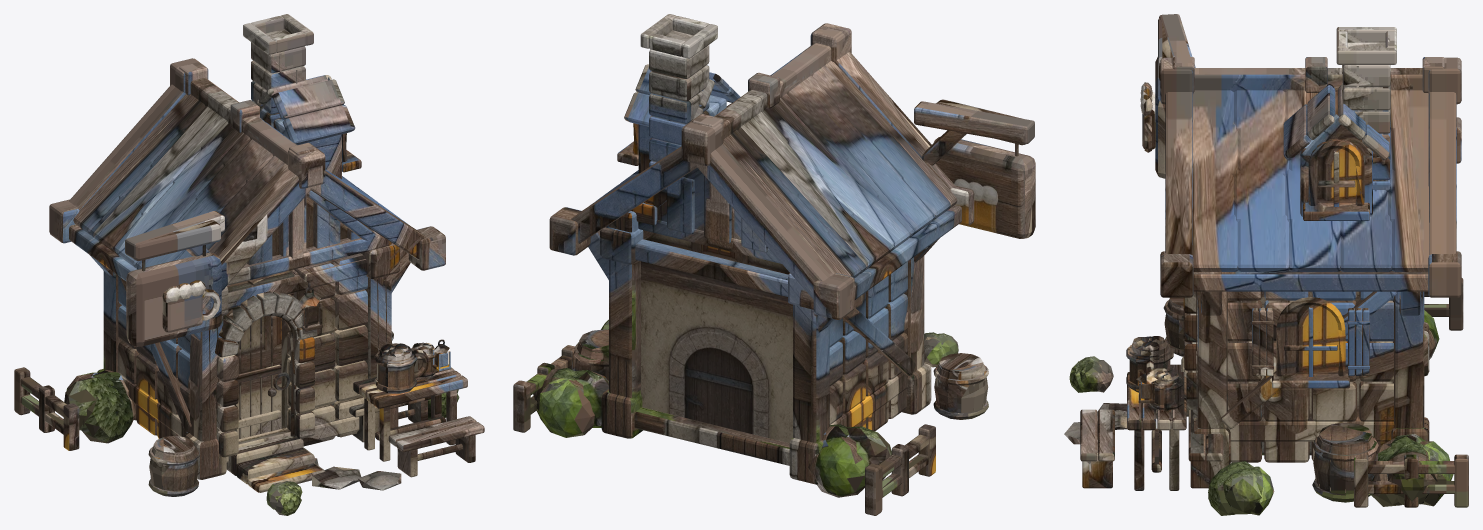
Rendered from tavern.glb.
3 views of the same model, side by side, from view 1: azimuth 30°, elevation 25°; view 2: azimuth 150°, elevation 25°; view 3: azimuth 270°, elevation 25° (orthographic). The views are drawn at different scales.
Parts seen in each view (by area): view 1: Carved hanging sign, Carved roof verge, Carved roof verge.002, Corner upright, Carved roof verge.001, Gable tie beam, Ridge timber, Leaf cluster.004, Wall cross beam.002, Corner upright.002, Soft edged blue roof tile.042, Soft edged blue roof tile.041 (+80 smaller); view 2: Cottage walls, Carved hanging sign, Carved roof verge.001, Corner upright.003, Corner upright.001, Wall cross beam.001, Carved roof verge.003, Wall cross beam.003, Tavern sign cantilever, Ridge timber, Leaf cluster.007, Leaf cluster.011 (+64 smaller); view 3: Roof eave.001, Carved roof verge.003, Carved roof verge.002, Corner upright.003, Corner upright.002, Ridge timber, Warm arched window.001, Soft edged blue roof tile.037, Soft edged blue roof tile.039, Soft edged blue roof tile.038, Soft edged blue roof tile.036, Side wall lower tie.001 (+86 smaller).
Boxes of the visible parts, bbox=[...] form: Carved hanging sign: bbox=[126, 252, 221, 346]; Carved roof verge: bbox=[213, 169, 312, 291]; Carved roof verge.002: bbox=[311, 171, 426, 259]; Corner upright: bbox=[190, 315, 223, 441]; Carved roof verge.001: bbox=[69, 84, 184, 209]; Gable tie beam: bbox=[227, 236, 390, 285]; Ridge timber: bbox=[190, 78, 297, 164]; Leaf cluster.004: bbox=[81, 386, 135, 443]; Wall cross beam.002: bbox=[228, 259, 367, 308]; Corner upright.002: bbox=[364, 231, 391, 378]; Soft edged blue roof tile.042: bbox=[282, 105, 355, 144]; Soft edged blue roof tile.041: bbox=[272, 79, 344, 119]; Cottage walls: bbox=[641, 230, 792, 443]; Carved hanging sign: bbox=[933, 136, 1035, 238]; Carved roof verge.001: bbox=[695, 144, 835, 299]; Corner upright.003: bbox=[609, 211, 640, 398]; Corner upright.001: bbox=[793, 304, 829, 442]; Wall cross beam.001: bbox=[634, 407, 789, 465]; Carved roof verge.003: bbox=[571, 146, 696, 243]; Wall cross beam.003: bbox=[635, 239, 788, 296]; Tavern sign cantilever: bbox=[914, 101, 1034, 143]; Ridge timber: bbox=[698, 43, 831, 153]; Leaf cluster.007: bbox=[808, 436, 865, 497]; Leaf cluster.011: bbox=[536, 379, 594, 437]; Roof eave.001: bbox=[1193, 271, 1428, 291]; Carved roof verge.003: bbox=[1428, 92, 1456, 254]; Carved roof verge.002: bbox=[1165, 92, 1192, 254]; Corner upright.003: bbox=[1394, 291, 1424, 428]; Corner upright.002: bbox=[1197, 291, 1227, 428]; Ridge timber: bbox=[1194, 68, 1422, 91]; Warm arched window.001: bbox=[1283, 305, 1338, 373]; Soft edged blue roof tile.037: bbox=[1237, 214, 1288, 271]; Soft edged blue roof tile.039: bbox=[1340, 215, 1391, 271]; Soft edged blue roof tile.038: bbox=[1289, 216, 1340, 271]; Soft edged blue roof tile.036: bbox=[1192, 214, 1237, 271]; Side wall lower tie.001: bbox=[1227, 417, 1394, 441].
Bounding box in the file's own units: 4.25 × 4.2 × 3.63.
5 materials, 5 textured.
